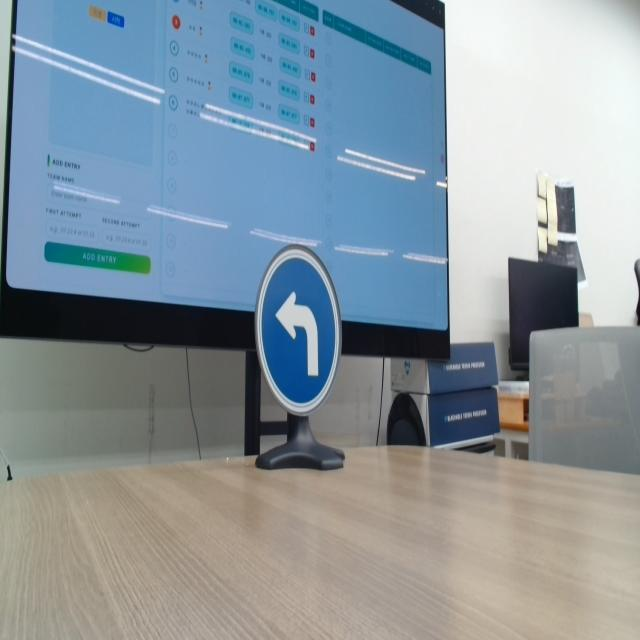left_direction: (250, 239, 344, 425)
